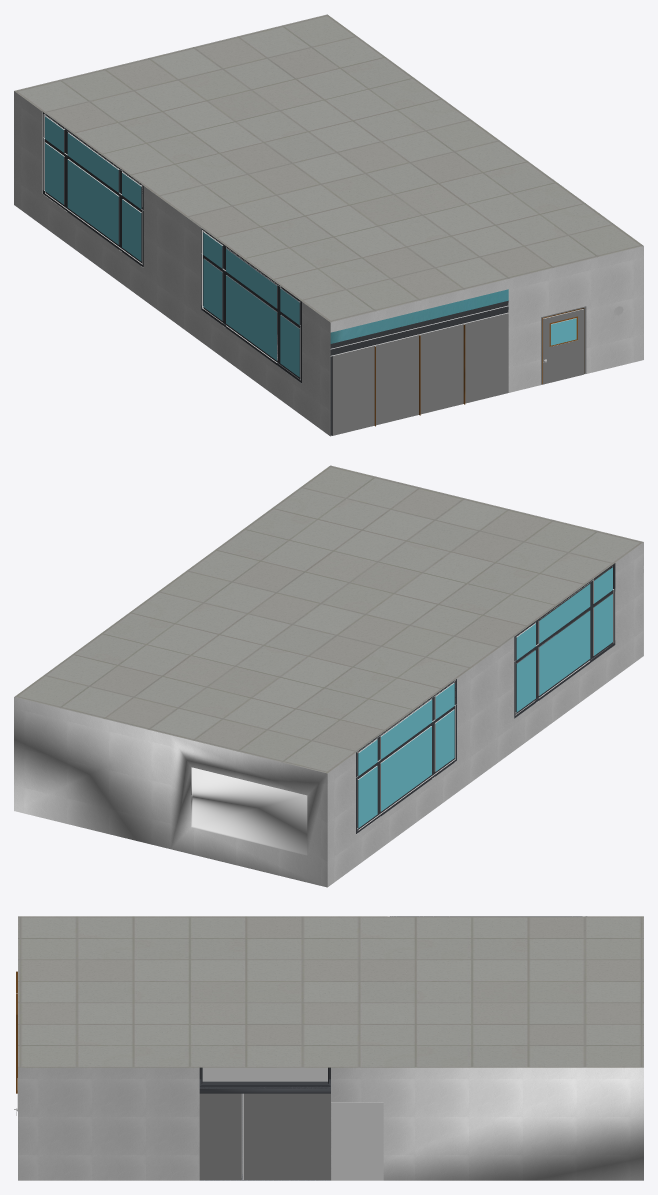
Rendered from Aula.fbx.
The picture shows the model from 3 angles, top to bottom: view 1: azimuth 30°, elevation 25°; view 2: azimuth 150°, elevation 25°; view 3: azimuth 270°, elevation 25°; orthographic projection.
Visible parts, largest first — view 1: texho, paredes blancas, Cube, Puerta, paredes celestes, madera; view 2: texho, paredes blancas, Cube; view 3: texho, paredes blancas, Puerta, Cube.
Boxes of the visible parts, x1,y1,x2,y2 form: texho: [14, 14, 643, 322]; paredes blancas: [14, 91, 643, 436]; Cube: [42, 112, 586, 436]; Puerta: [332, 309, 583, 435]; paredes celestes: [330, 289, 508, 343]; madera: [374, 316, 577, 426]; texho: [14, 465, 643, 773]; paredes blancas: [14, 542, 643, 887]; Cube: [356, 563, 643, 834]; texho: [18, 916, 643, 1067]; paredes blancas: [16, 1067, 643, 1180]; Puerta: [199, 1093, 330, 1179]; Cube: [14, 916, 586, 1180].
Bounding box in the file's own units: 629 × 227 × 1107.
